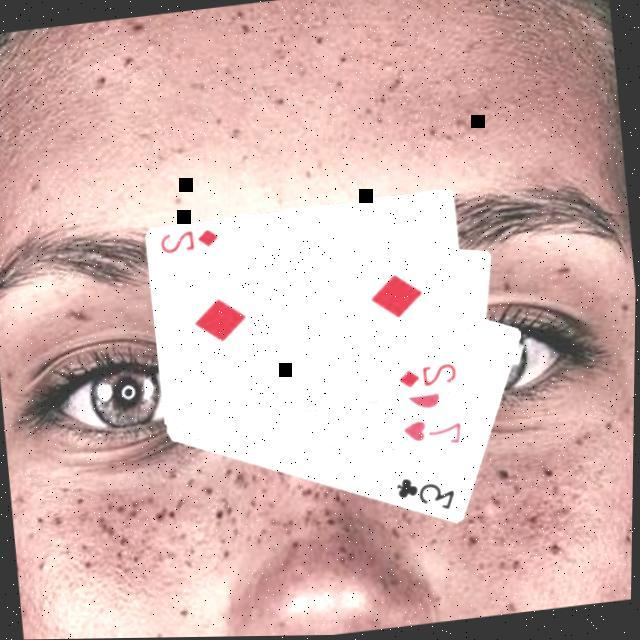2D: (158, 222, 224, 256), (397, 358, 462, 392)
3C: (393, 468, 462, 518)
7H: (401, 410, 468, 452)
